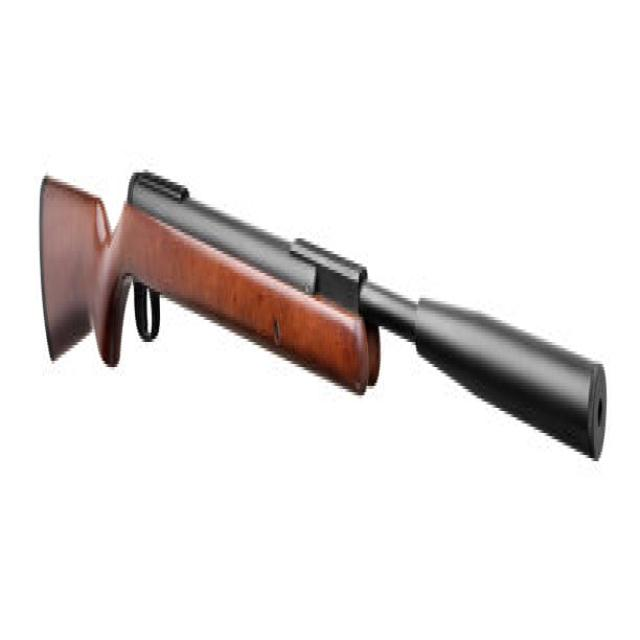rifle: (36, 148, 614, 480)
